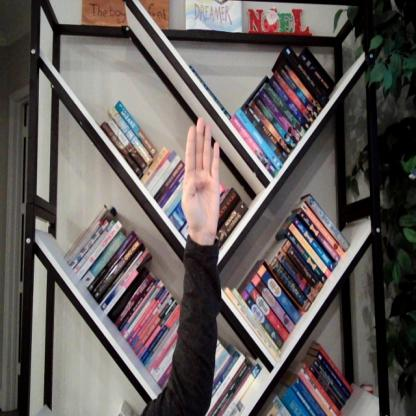four: (177, 111, 226, 250)
